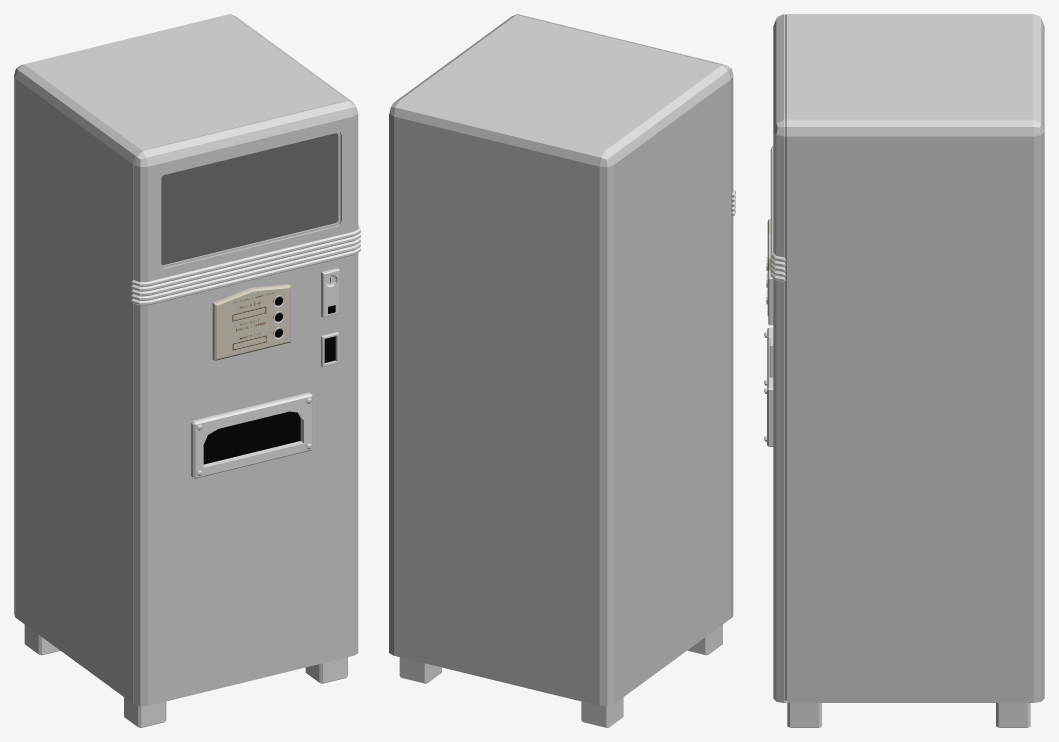
Rendered from VendingMAchine.fbx.
The picture shows the model from 3 angles, left to right: view 1: azimuth 30°, elevation 25°; view 2: azimuth 150°, elevation 25°; view 3: azimuth 270°, elevation 25°; orthographic projection. The views are drawn at different scales.
Visible parts, largest first — view 1: Cube, Cube.007, Cube.001, Cube.003, Cube.011, Cube.004, Cube.010; view 2: Cube, Cube.011; view 3: Cube, Cube.011, Cube.001, Cube.007.
Part boxes in pixels (<box>): Cube: <box>14,14,358,706</box>; Cube.007: <box>191,392,312,478</box>; Cube.001: <box>131,225,360,305</box>; Cube.003: <box>212,284,290,360</box>; Cube.011: <box>24,625,347,727</box>; Cube.004: <box>321,268,339,317</box>; Cube.010: <box>321,332,338,367</box>; Cube: <box>389,14,733,706</box>; Cube.011: <box>399,624,722,727</box>; Cube: <box>773,14,1044,702</box>; Cube.011: <box>787,703,1030,727</box>; Cube.001: <box>770,146,785,281</box>; Cube.007: <box>767,327,773,446</box>.
Size of the model in its own units: 86.96 by 211 by 88.15.
